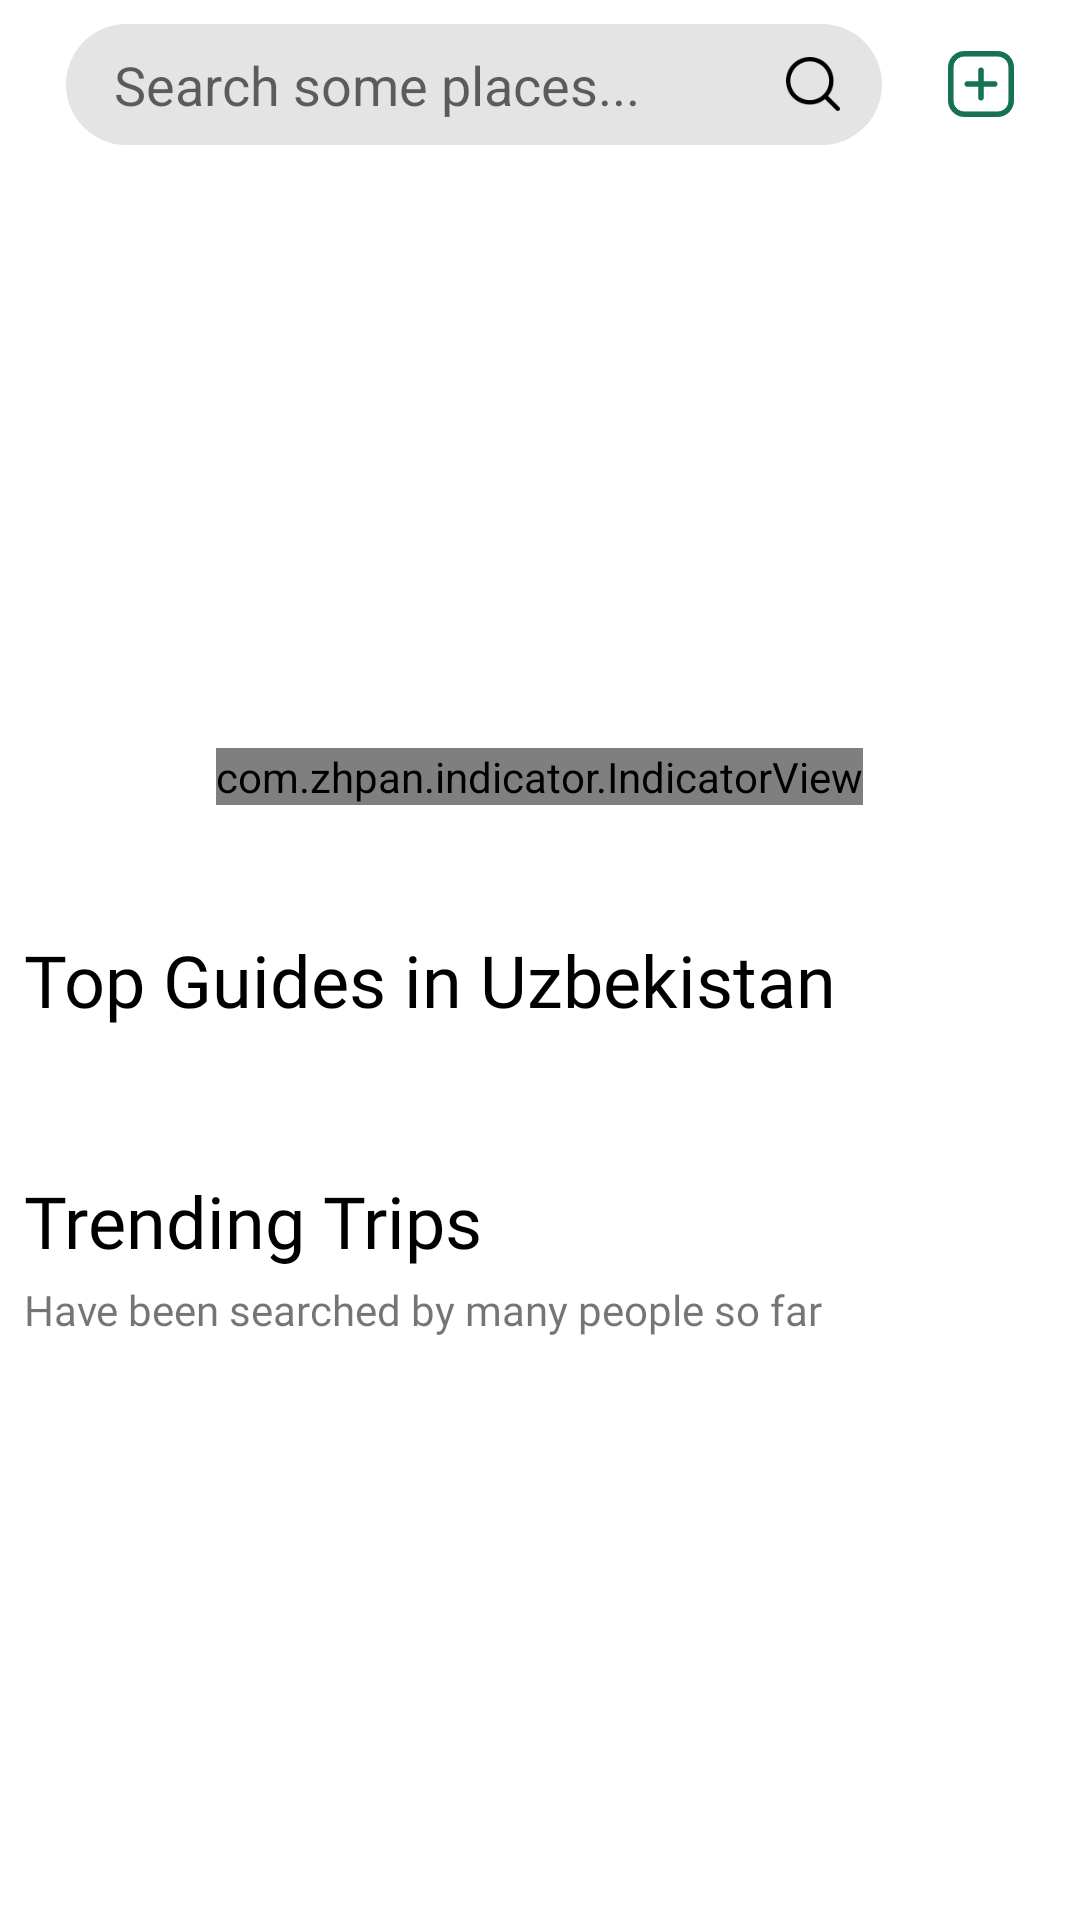

Where icons sit on this 1080x1920 app screen, as [left=x1, top=y1, right=x2, bottom=y2]:
add: [left=948, top=51, right=1014, bottom=117]
loupe: [left=786, top=57, right=840, bottom=111]
